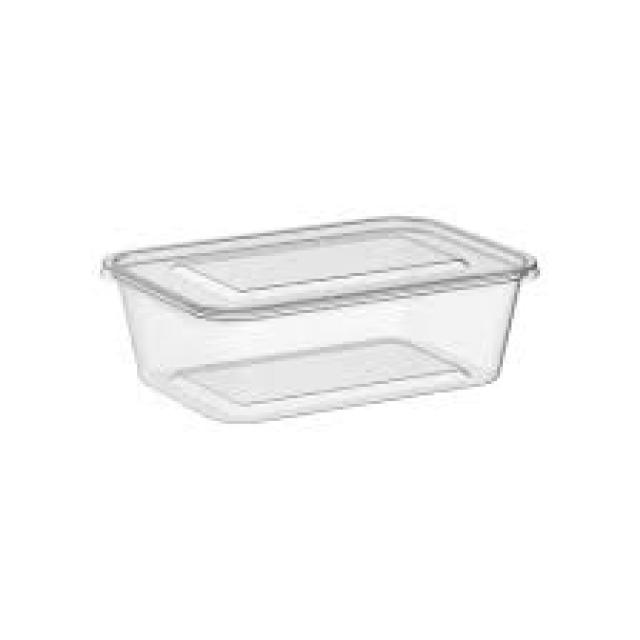disposable: (90, 191, 558, 432)
